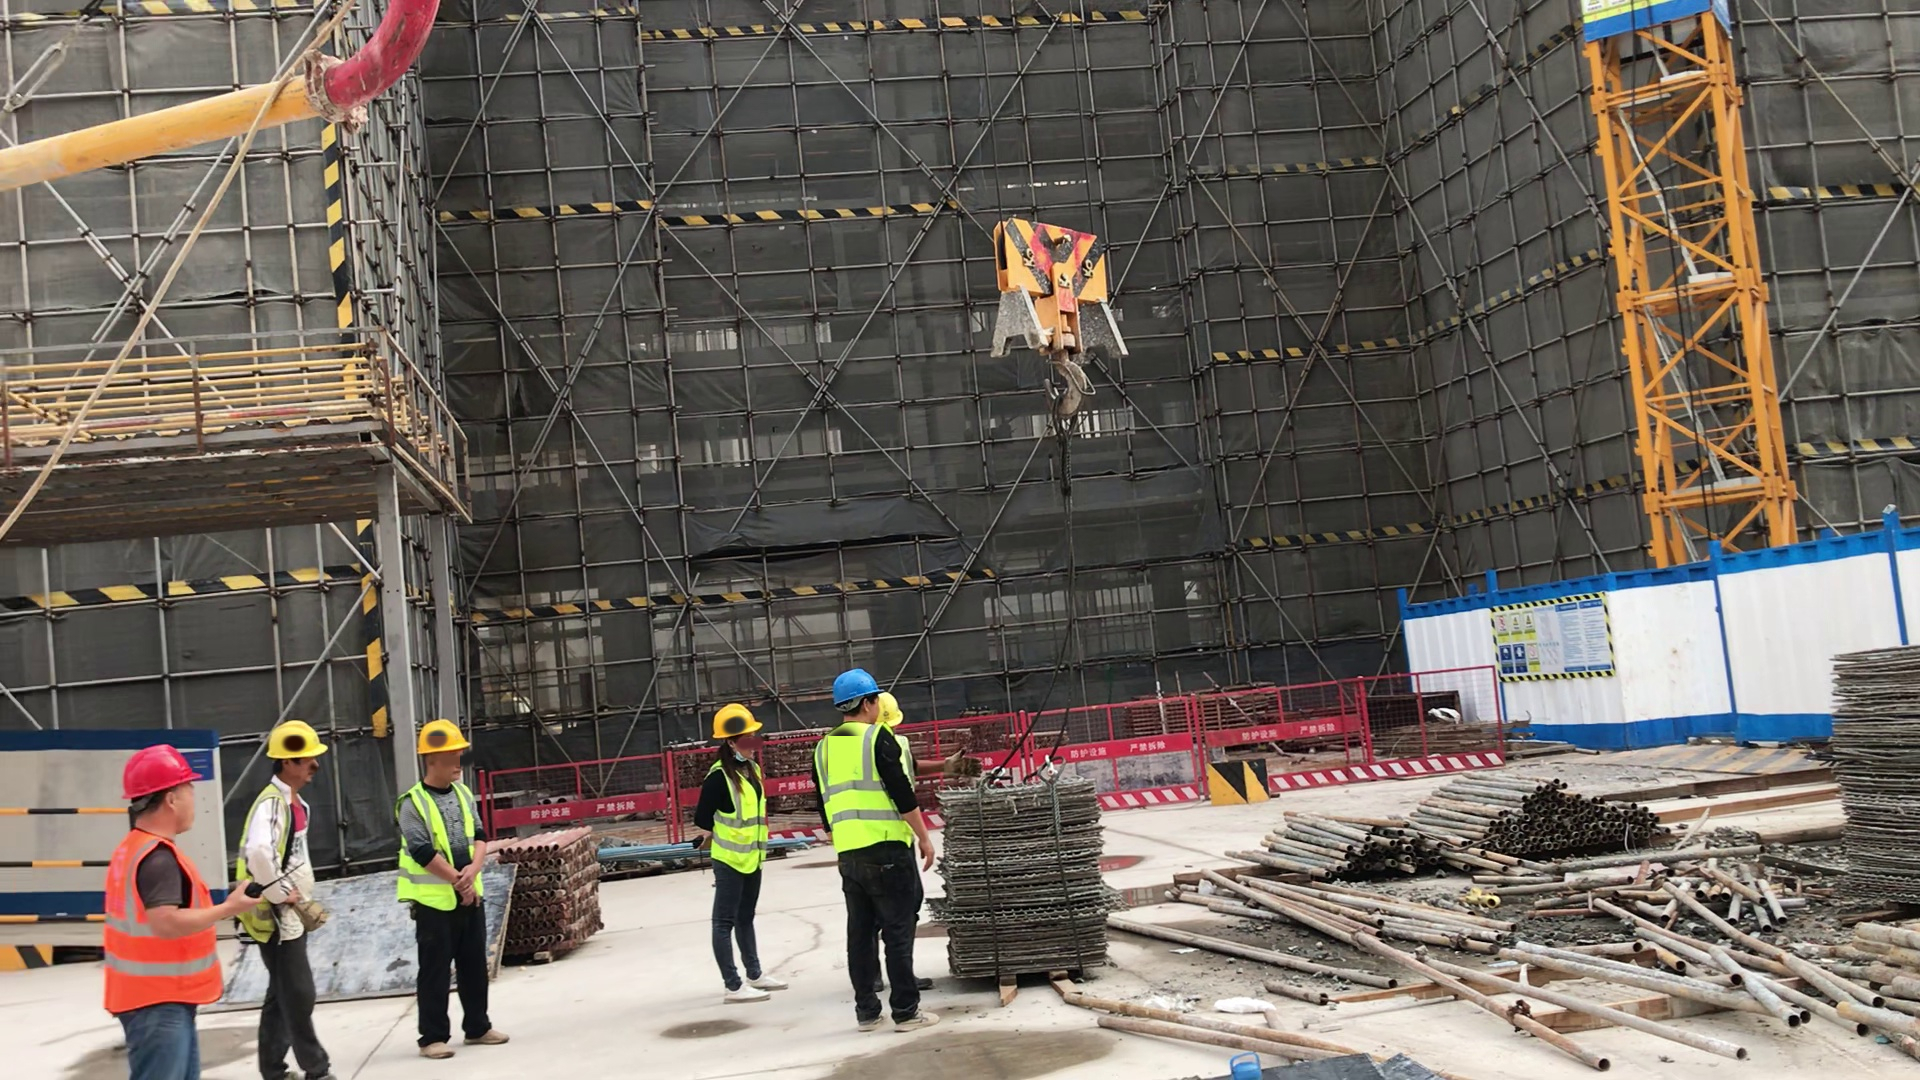fence: (1266, 661, 1506, 787), (3, 798, 107, 932), (1096, 691, 1200, 809), (607, 743, 687, 843)
helmet: (115, 743, 203, 801), (264, 722, 329, 764), (414, 722, 474, 761), (706, 704, 766, 739), (828, 668, 884, 706)
hook: (982, 212, 1130, 424)
person: (96, 743, 258, 1080), (811, 668, 938, 1034), (393, 717, 515, 1061), (237, 717, 344, 1080), (695, 700, 795, 1006)
scaffold: (1421, 769, 1681, 872), (1221, 798, 1447, 880), (519, 824, 610, 952)
slogan: (1493, 602, 1613, 679), (1588, 1, 1657, 27)
vest: (99, 831, 226, 1023), (808, 726, 918, 857), (403, 776, 486, 916), (238, 785, 299, 949), (710, 756, 770, 880)
